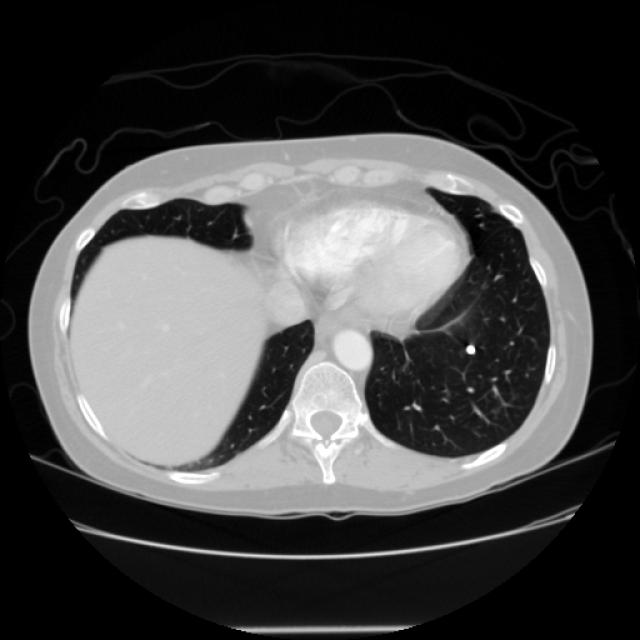nodule: (458, 336, 482, 362)
